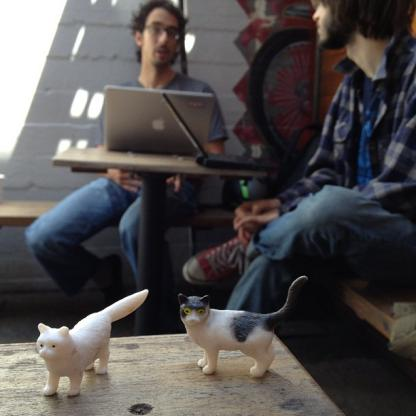Target: (25, 276, 152, 400), (170, 271, 313, 378)
